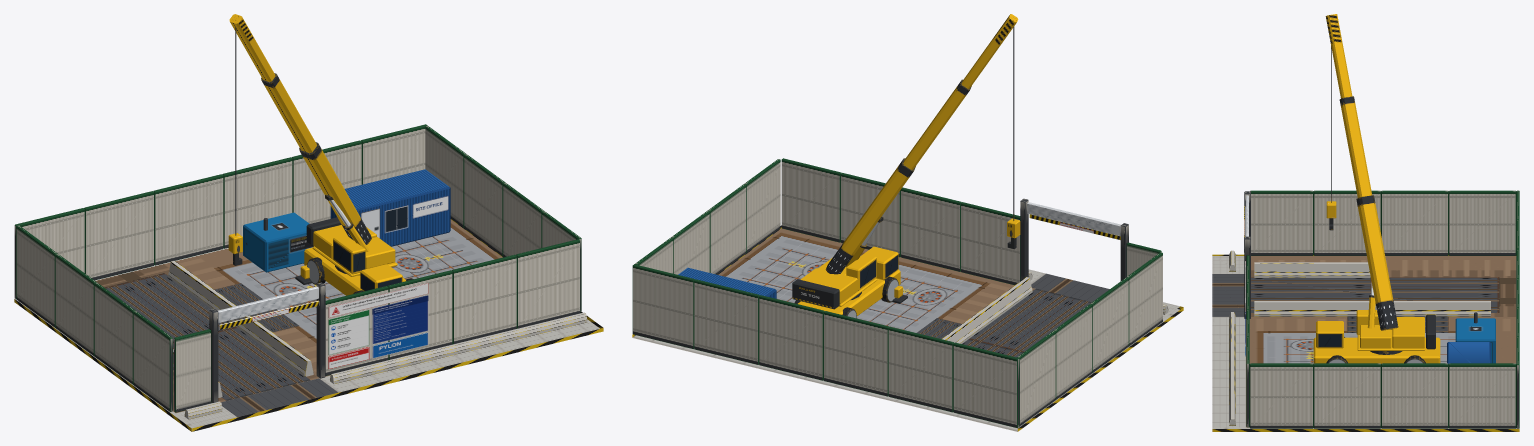
Rendered from Landmark_ConstructionSite.obj.
3 views of the same model, side by side, from view 1: azimuth 30°, elevation 25°; view 2: azimuth 150°, elevation 25°; view 3: azimuth 270°, elevation 25° (orthographic). The views are drawn at different scales.
Visible parts, largest first — view 1: Landmark_ConstructionSite; view 2: Landmark_ConstructionSite; view 3: Landmark_ConstructionSite.
Part boxes in pixels (x1,y1,x2,y2): Landmark_ConstructionSite: (14,14,603,431); Landmark_ConstructionSite: (632,14,1183,431); Landmark_ConstructionSite: (1212,14,1519,431).
Size of the model in its own units: 24.4 by 19.1 by 18.2.
3 materials, 3 textured.
